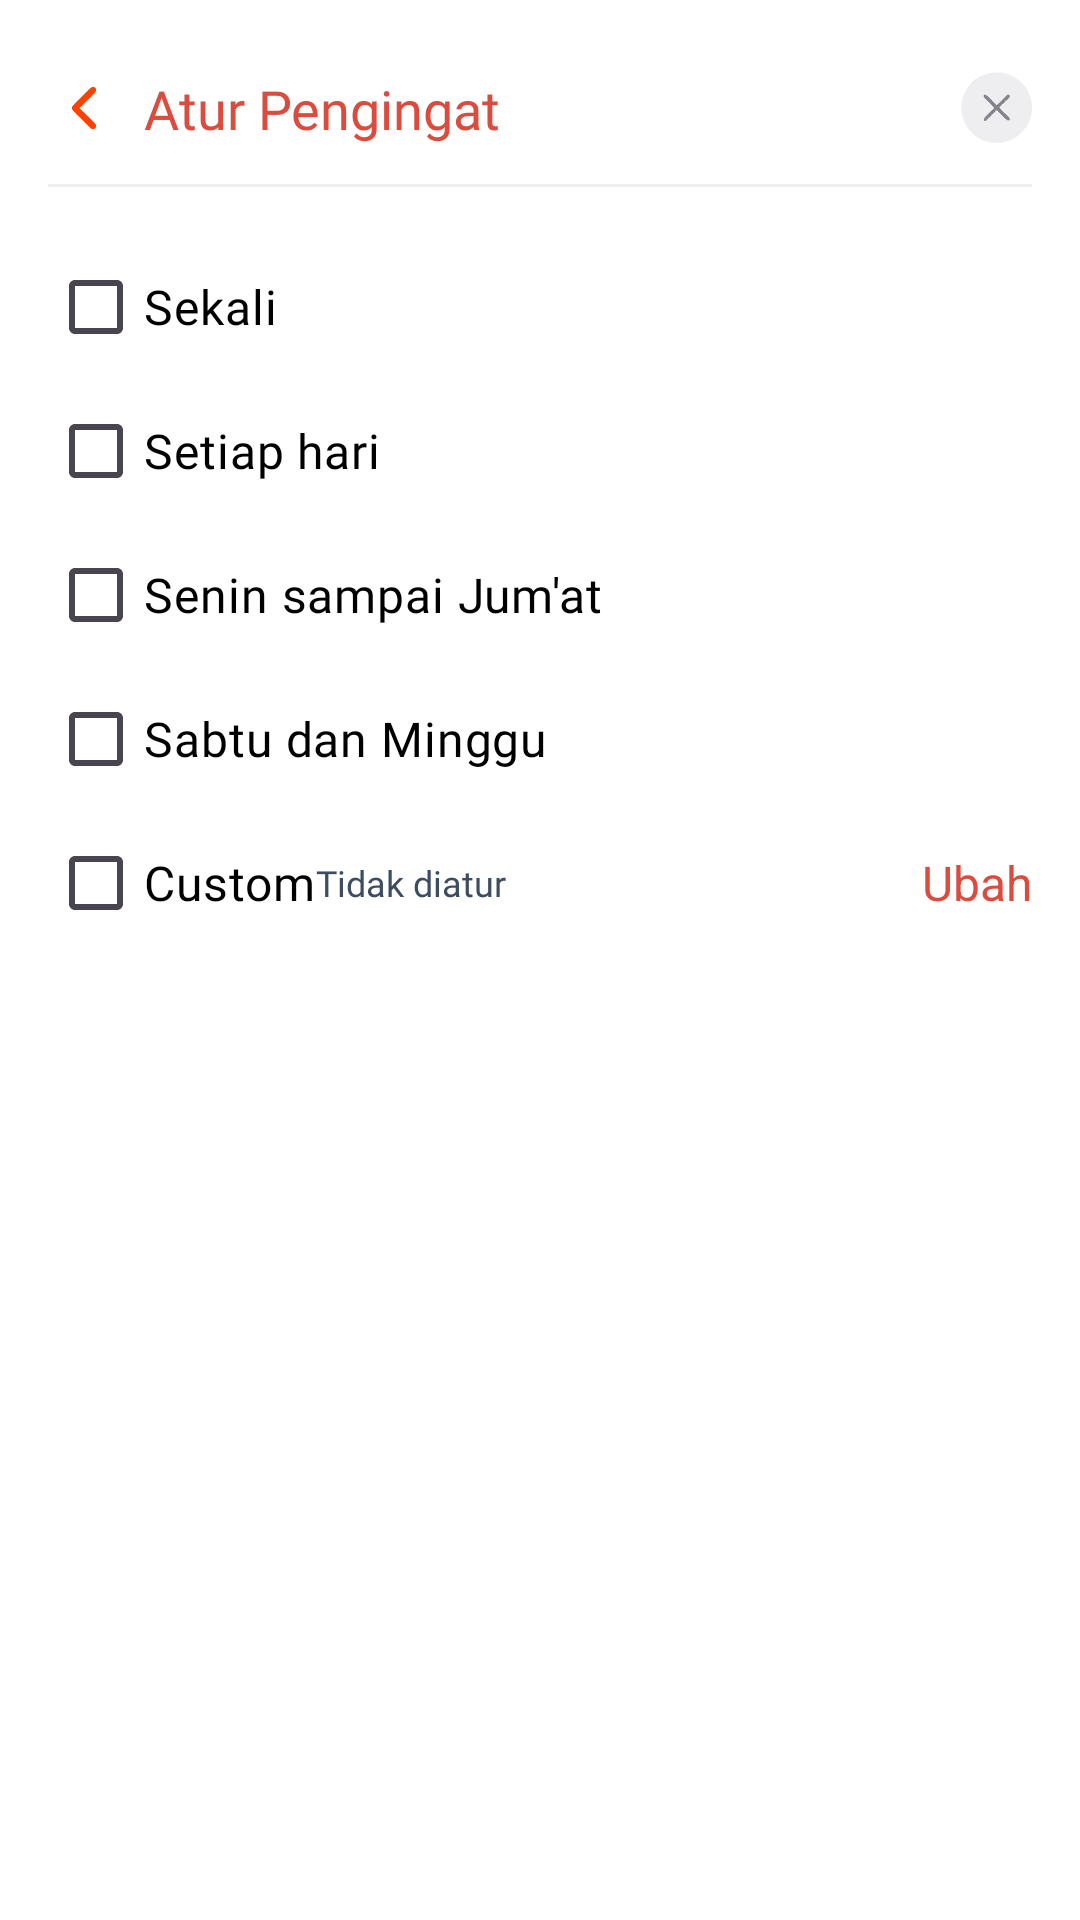

Where icons sit on this 1080px x 1920px app screen, as (x1, y1, x2, y2):
arrow left: (72, 87, 96, 129)
close: (961, 73, 1032, 143)
